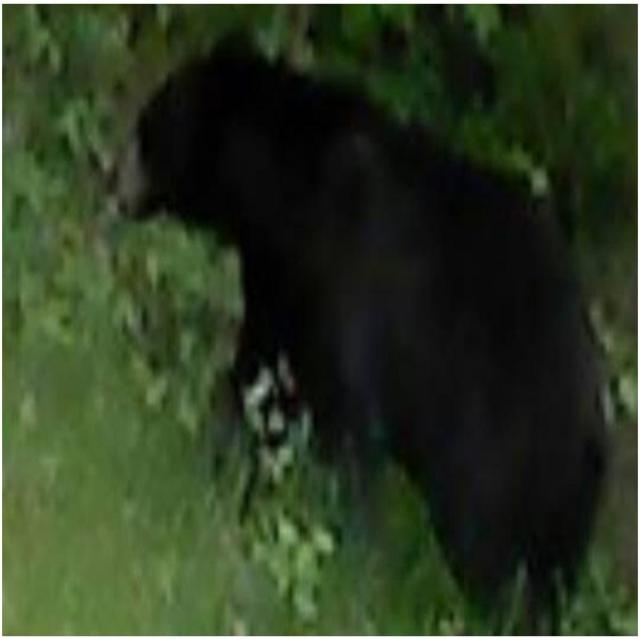Bear: (119, 30, 615, 631)
